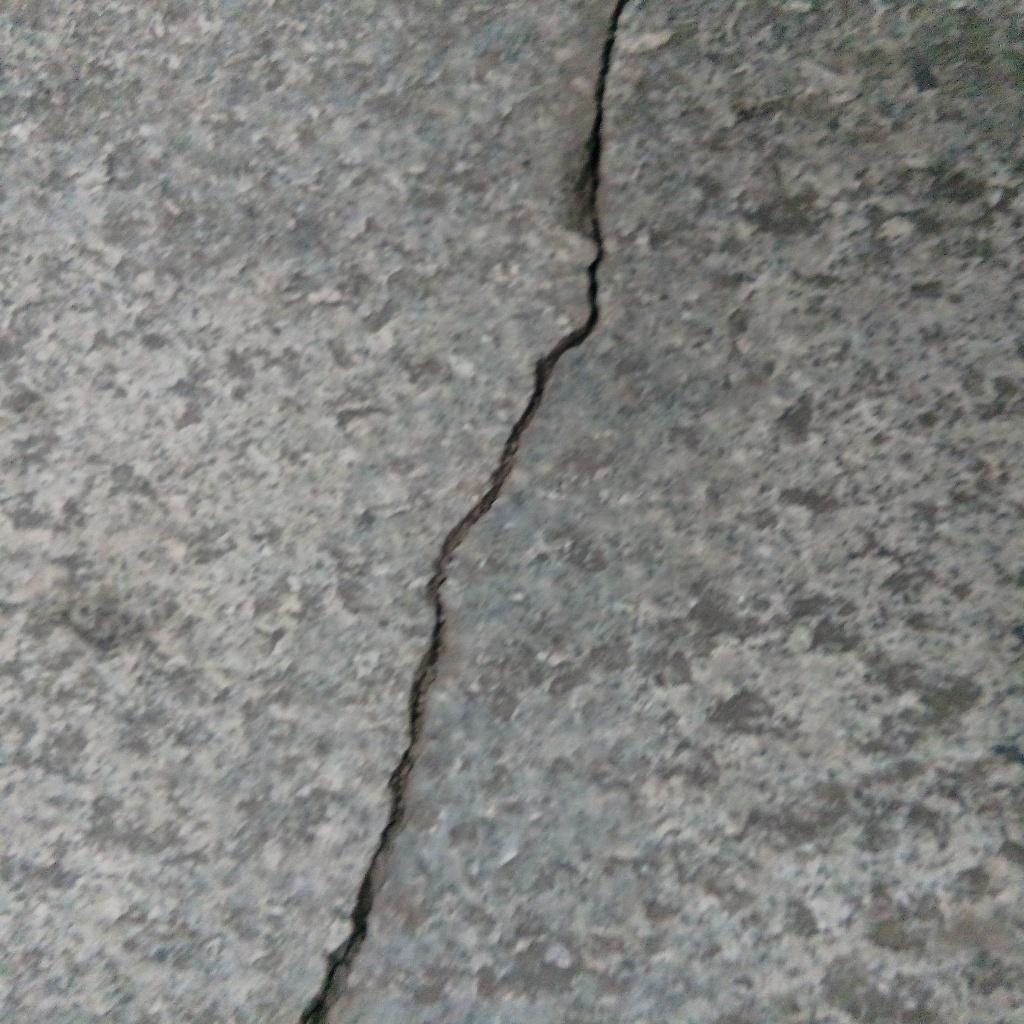Crack: (297, 1, 625, 1024)
